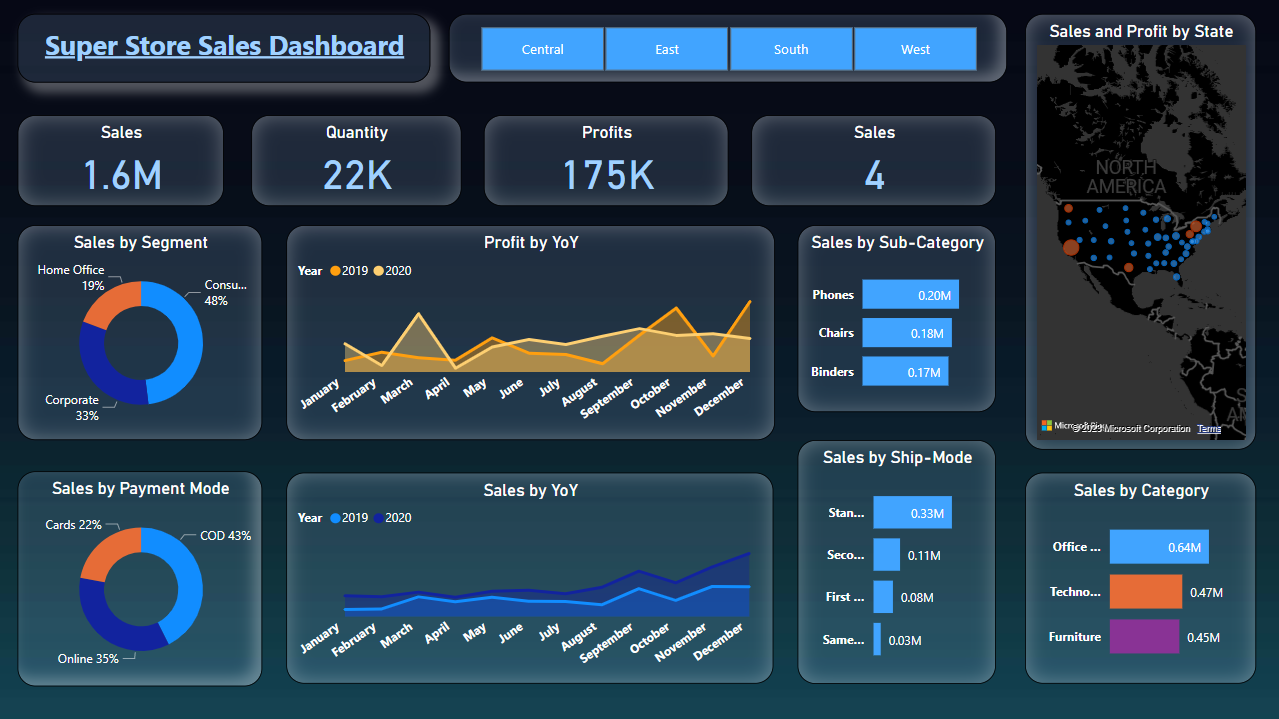

The page's visual inventory and layout, read from the dashboard file:
{"tool":"powerbi","page":{"name":"Page 1","canvas":[1280,720],"ordinal":0},"visuals":[{"type":"clusteredBarChart","title":"Sales by Category","fields":{"Category":["SuperStore_Sales_Dataset.Category"],"Y":["Sum(SuperStore_Sales_Dataset.Sales)"]},"box":[1025,472.5,231.2,211.2],"z":0},{"type":"clusteredBarChart","title":"Sales by Sub-Category","fields":{"Category":["SuperStore_Sales_Dataset.Sub-Category","SuperStore_Sales_Dataset.Category"],"Y":["Sum(SuperStore_Sales_Dataset.Sales)"]},"box":[797.5,225,198.8,187.5],"z":1000},{"type":"clusteredBarChart","title":"Sales by Ship-Mode","fields":{"Y":["Sum(SuperStore_Sales_Dataset.Sales)"],"Category":["SuperStore_Sales_Dataset.Ship Mode"]},"box":[797.5,440,198.8,243.8],"z":2000},{"type":"areaChart","title":"Sales by YoY","fields":{"Y":["Sum(SuperStore_Sales_Dataset.Sales)"],"Category":["SuperStore_Sales_Dataset.Order Date.Variation.Date Hierarchy.Month","SuperStore_Sales_Dataset.Order Date.Variation.Date Hierarchy.Day"],"Series":["SuperStore_Sales_Dataset.Order Date.Variation.Date Hierarchy.Year"]},"box":[286.2,472.5,487.5,211.2],"z":3000},{"type":"areaChart","title":"Profit by YoY","fields":{"Category":["SuperStore_Sales_Dataset.Order Date.Variation.Date Hierarchy.Month","SuperStore_Sales_Dataset.Order Date.Variation.Date Hierarchy.Day"],"Series":["SuperStore_Sales_Dataset.Order Date.Variation.Date Hierarchy.Year"],"Y":["Sum(SuperStore_Sales_Dataset.Profit)"]},"box":[286.2,225,488.8,215],"z":4000},{"type":"map","title":"Sales and Profit by State","fields":{"Category":["SuperStore_Sales_Dataset.State"],"Size":["Sum(SuperStore_Sales_Dataset.Sales)"]},"box":[1025,13.8,231.2,436.2],"z":5000},{"type":"donutChart","title":"Sales by Segment","fields":{"Category":["SuperStore_Sales_Dataset.Segment"],"Y":["Sum(SuperStore_Sales_Dataset.Sales)"]},"box":[17.5,225,245,215],"z":6000},{"type":"donutChart","title":"Sales by Payment Mode","fields":{"Category":["SuperStore_Sales_Dataset.Payment Mode"],"Y":["Sum(SuperStore_Sales_Dataset.Sales)"]},"box":[17.5,471.2,245,215],"z":7000},{"type":"slicer","fields":{"Values":["SuperStore_Sales_Dataset.Region"]},"box":[448.8,13.8,558.8,68.8],"z":8000},{"type":"textbox","box":[17.5,13.8,412.5,68.8],"z":9000},{"type":"card","title":"Sales","fields":{"Values":["Sum(SuperStore_Sales_Dataset.Sales)"]},"box":[17.5,115,206.2,91.2],"z":10000},{"type":"card","title":"Quantity","fields":{"Values":["Sum(SuperStore_Sales_Dataset.Quantity)"]},"box":[251.2,115,210,91.2],"z":11000},{"type":"card","title":"Profits","fields":{"Values":["Sum(SuperStore_Sales_Dataset.Profit)"]},"box":[483.8,115,245,91.2],"z":12000},{"type":"card","title":"Sales","fields":{"Values":["Avg(SuperStore_Sales_Dataset.AvgDelivery)"]},"box":[751.2,115,245,91.2],"z":13000}]}

Visuals, with their boxes in screenshot pixels (x1, y1, x2, y2), scaled from the page's 1280x720 canvas onto the 1279x719 screenshot:
"Sales by Category" clusteredBarChart: 1024:472:1255:683
"Sales by Sub-Category" clusteredBarChart: 797:225:996:412
"Sales by Ship-Mode" clusteredBarChart: 797:439:996:683
"Sales by YoY" areaChart: 286:472:773:683
"Profit by YoY" areaChart: 286:225:774:439
"Sales and Profit by State" map: 1024:14:1255:449
"Sales by Segment" donutChart: 17:225:262:439
"Sales by Payment Mode" donutChart: 17:471:262:685
slicer - SuperStore_Sales_Dataset.Region: 448:14:1007:82
textbox: 17:14:430:82
"Sales" card: 17:115:224:206
"Quantity" card: 251:115:461:206
"Profits" card: 483:115:728:206
"Sales" card: 751:115:995:206
